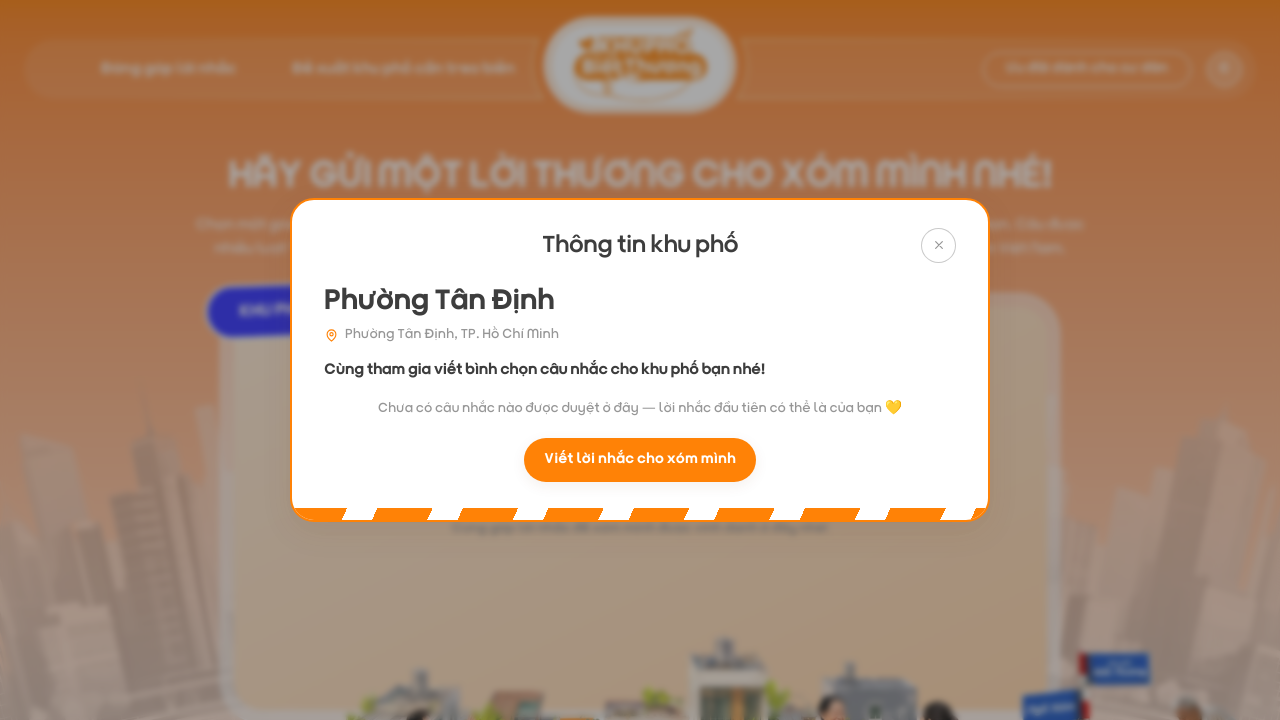
HomeShell · popup khu phố → 'Viết lời nhắc cho xóm mình' › mở popup 'Chọn góc phố' thay vì chỉ cuộn trang
Click the button "Viết lời nhắc cho xóm mình" at (640, 460), box [524,438,756,482]
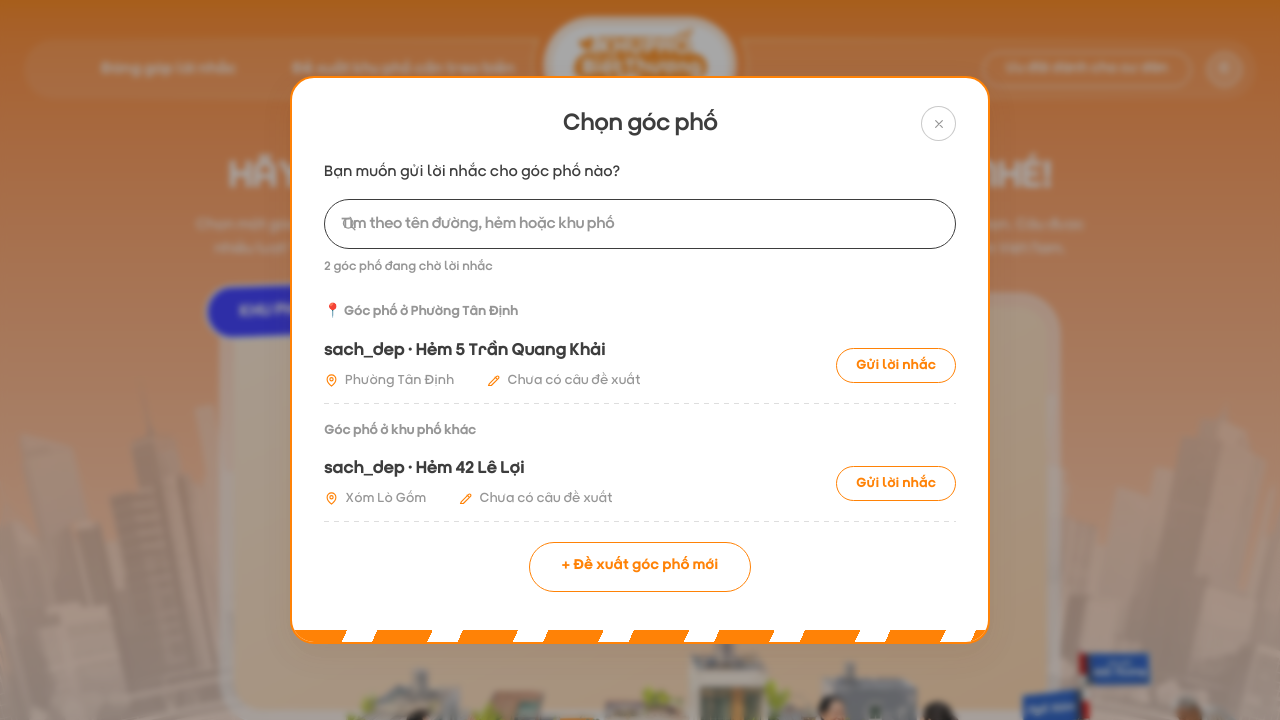
Expected: the heading "Chọn góc phố" is shown, [562,111,718,136]
Expected: the heading "Thông tin khu phố" is gone
